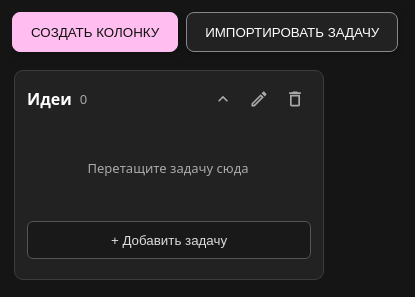
Scenario: TaskBoard › collapses and expands a column
expect the text "Перетащите задачу сюда" is shown: met, box left=88, top=159, right=248, bottom=177
Click the button named "Свернуть колонку Идеи" at (223, 99), box left=207, top=83, right=239, bottom=115
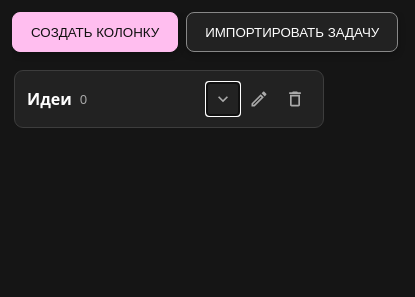
expect the text "Перетащите задачу сюда" is gone: met
Click the button named "Развернуть колонку Идеи" at (223, 99), box left=207, top=83, right=239, bottom=115
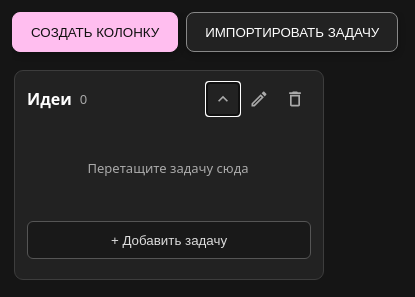
expect the text "Перетащите задачу сюда" is shown: met, box left=88, top=159, right=248, bottom=177
